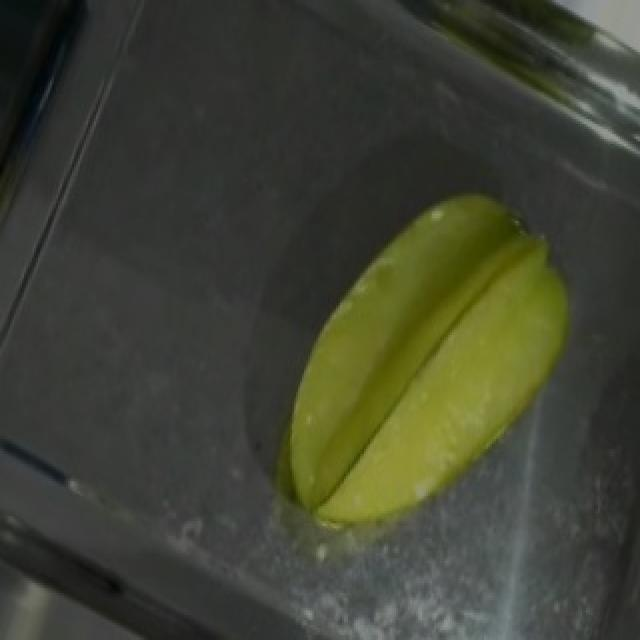fruit: (262, 141, 626, 536)
